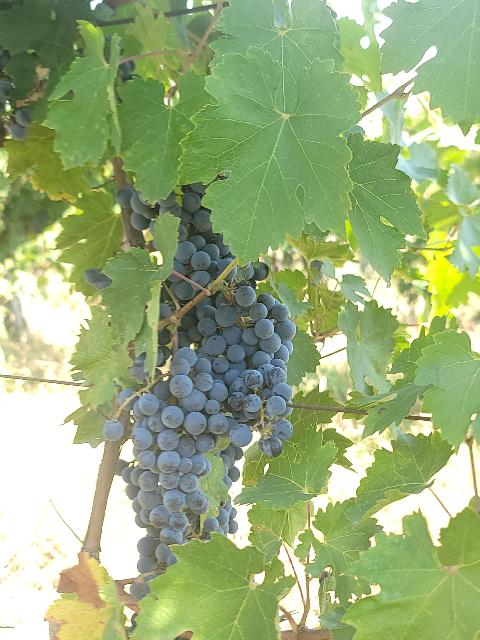grapes: (129, 348, 215, 572), (201, 285, 296, 458), (115, 182, 232, 286)
